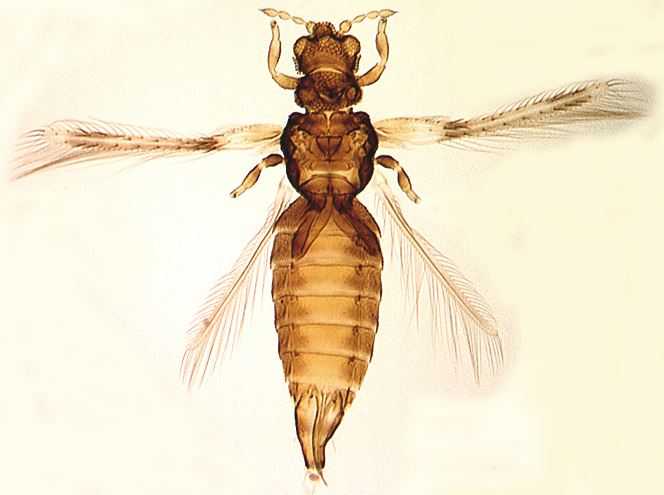Thripidae: (7, 9, 664, 484)
